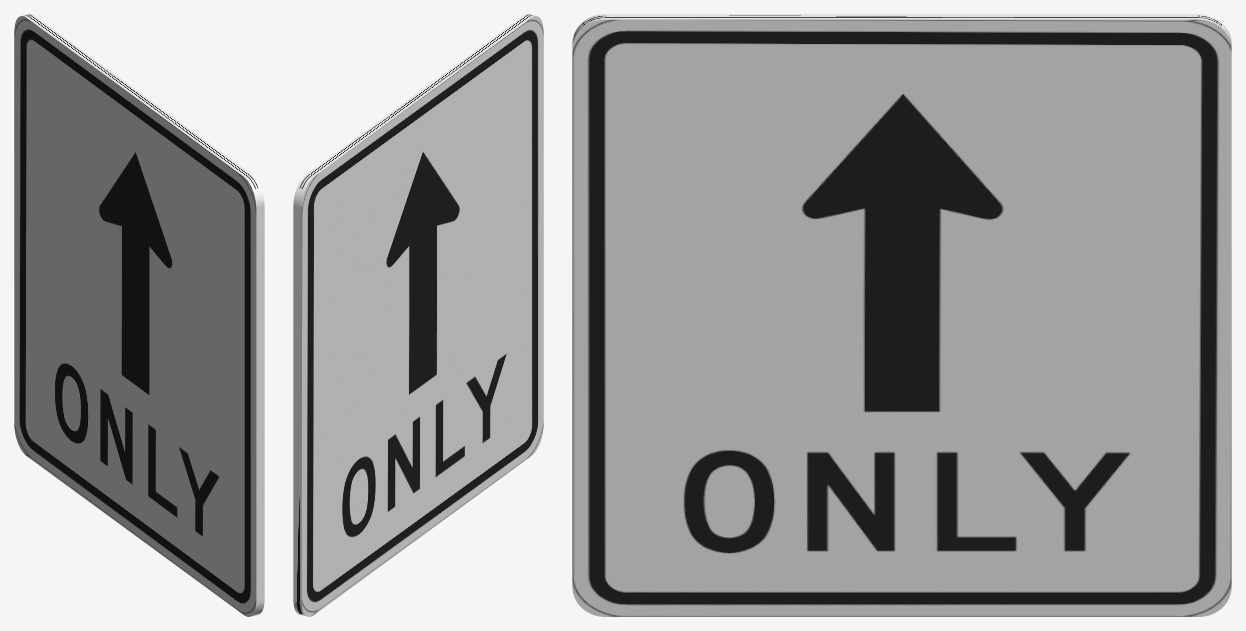
The model's file is square.obj.
3 renders of one model, left to right at view 1: azimuth 30°, elevation 25°; view 2: azimuth 150°, elevation 25°; view 3: azimuth 270°, elevation 25°, orthographic. The views are drawn at different scales.
Parts seen in each view (by area): view 1: Cube; view 2: Cube; view 3: Cube.
Part boxes in pixels (x1,y1,x2,y2): Cube: (14,14,264,616); Cube: (293,14,543,616); Cube: (572,14,1231,616).
Bounding box in the file's own units: 0.02 × 1 × 1.
